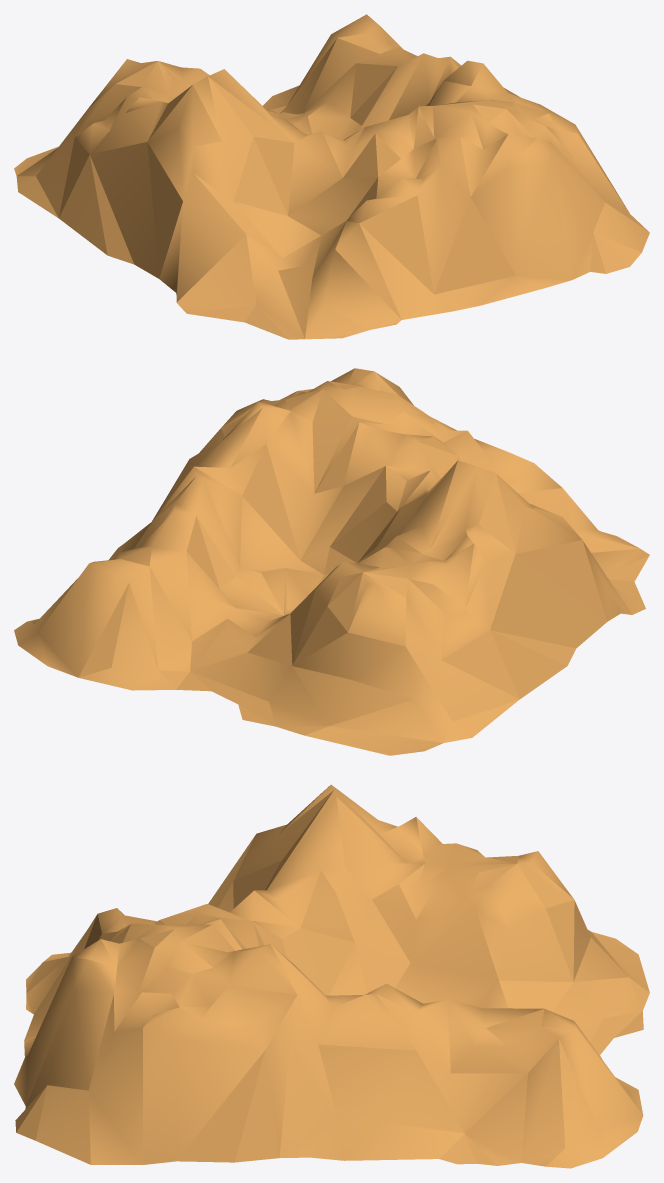
Rendered from BigRock2.fbx.
3 renders of one model, top to bottom at view 1: azimuth 30°, elevation 25°; view 2: azimuth 150°, elevation 25°; view 3: azimuth 270°, elevation 25°, orthographic. The views are drawn at different scales.
Visible parts, largest first — view 1: BigRock2; view 2: BigRock2; view 3: BigRock2.
Boxes of the visible parts, x1,y1,x2,y2 form: BigRock2: (14,14,649,339); BigRock2: (14,368,649,755); BigRock2: (14,784,649,1168).
Size of the model in its own units: 23.66 by 8.77 by 25.92.
